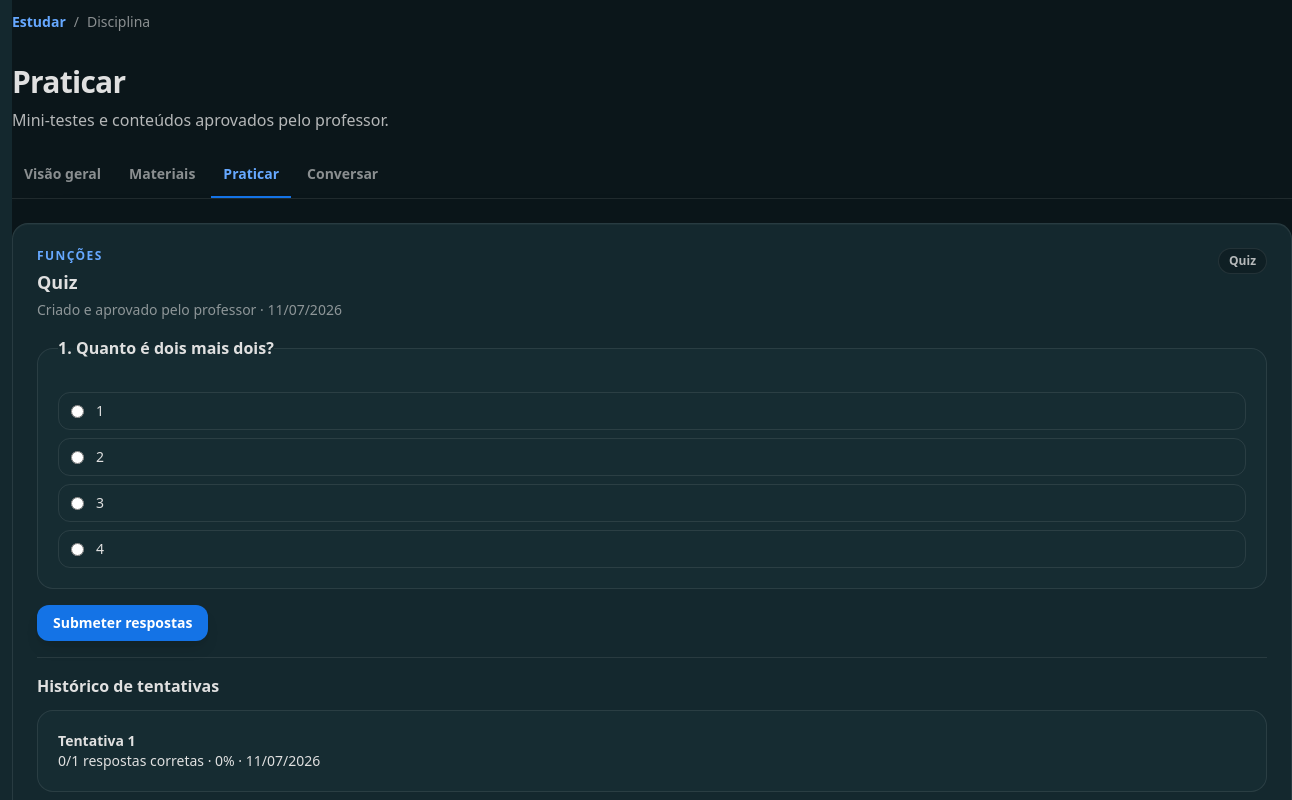
Scenario: StudentApprovedAiContentPage › só mostra a solução depois de submeter todas as respostas
The image size is (1292, 800).
Expected: the text "1. Quanto é dois mais dois?" is shown, [58,336,274,360]
Expected: the text "Tentativa 1" is shown, [58,731,136,750]
Click the radio button labelled "4": (78, 549) [71,542,84,556]
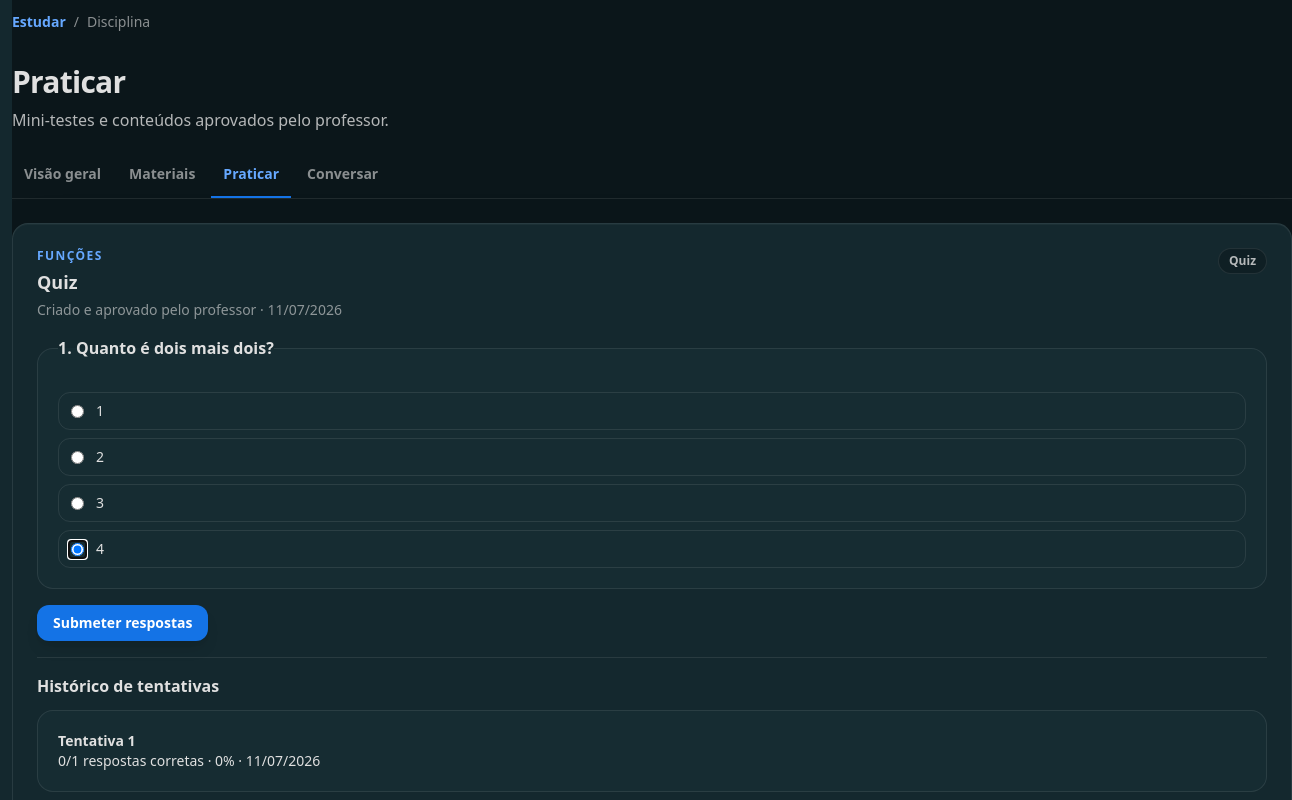
Click the button "Submeter respostas": (123, 623) [37,605,208,641]
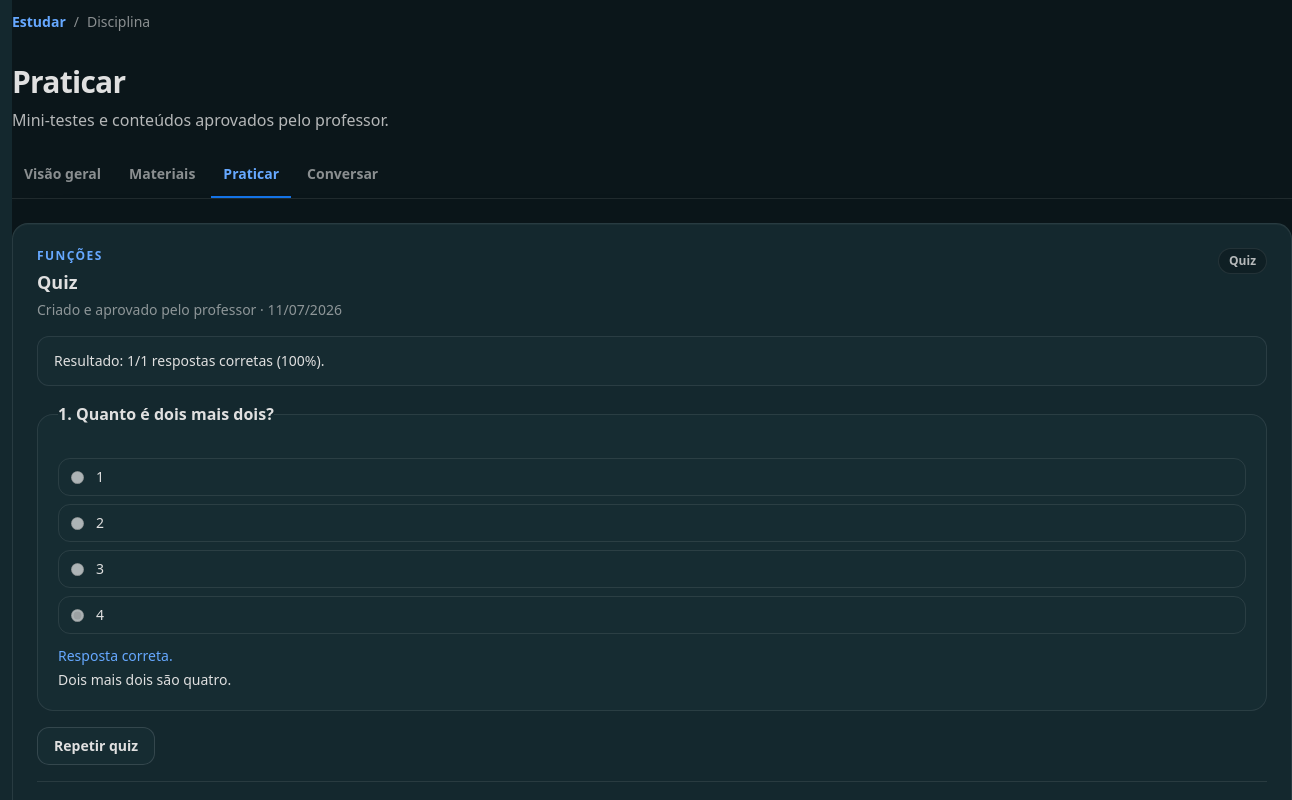
Expected: the text "Dois mais dois são quatro." is shown, [58,670,231,689]
Expected: the text "Resultado: 1/1 respostas corretas (100%)." is shown, [37,336,1267,386]
Expected: the button "Repetir quiz" is shown, [37,727,155,765]
